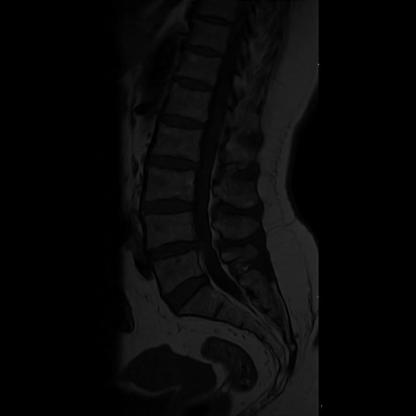Disc Bulgerotation: (145, 237, 209, 262), (139, 194, 200, 220), (142, 151, 203, 175)
